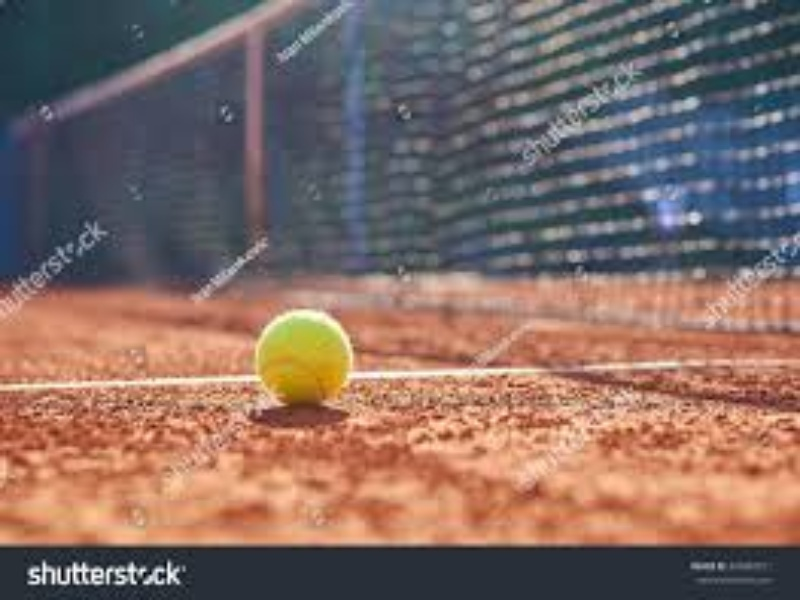tennis ball: (244, 301, 370, 419)
